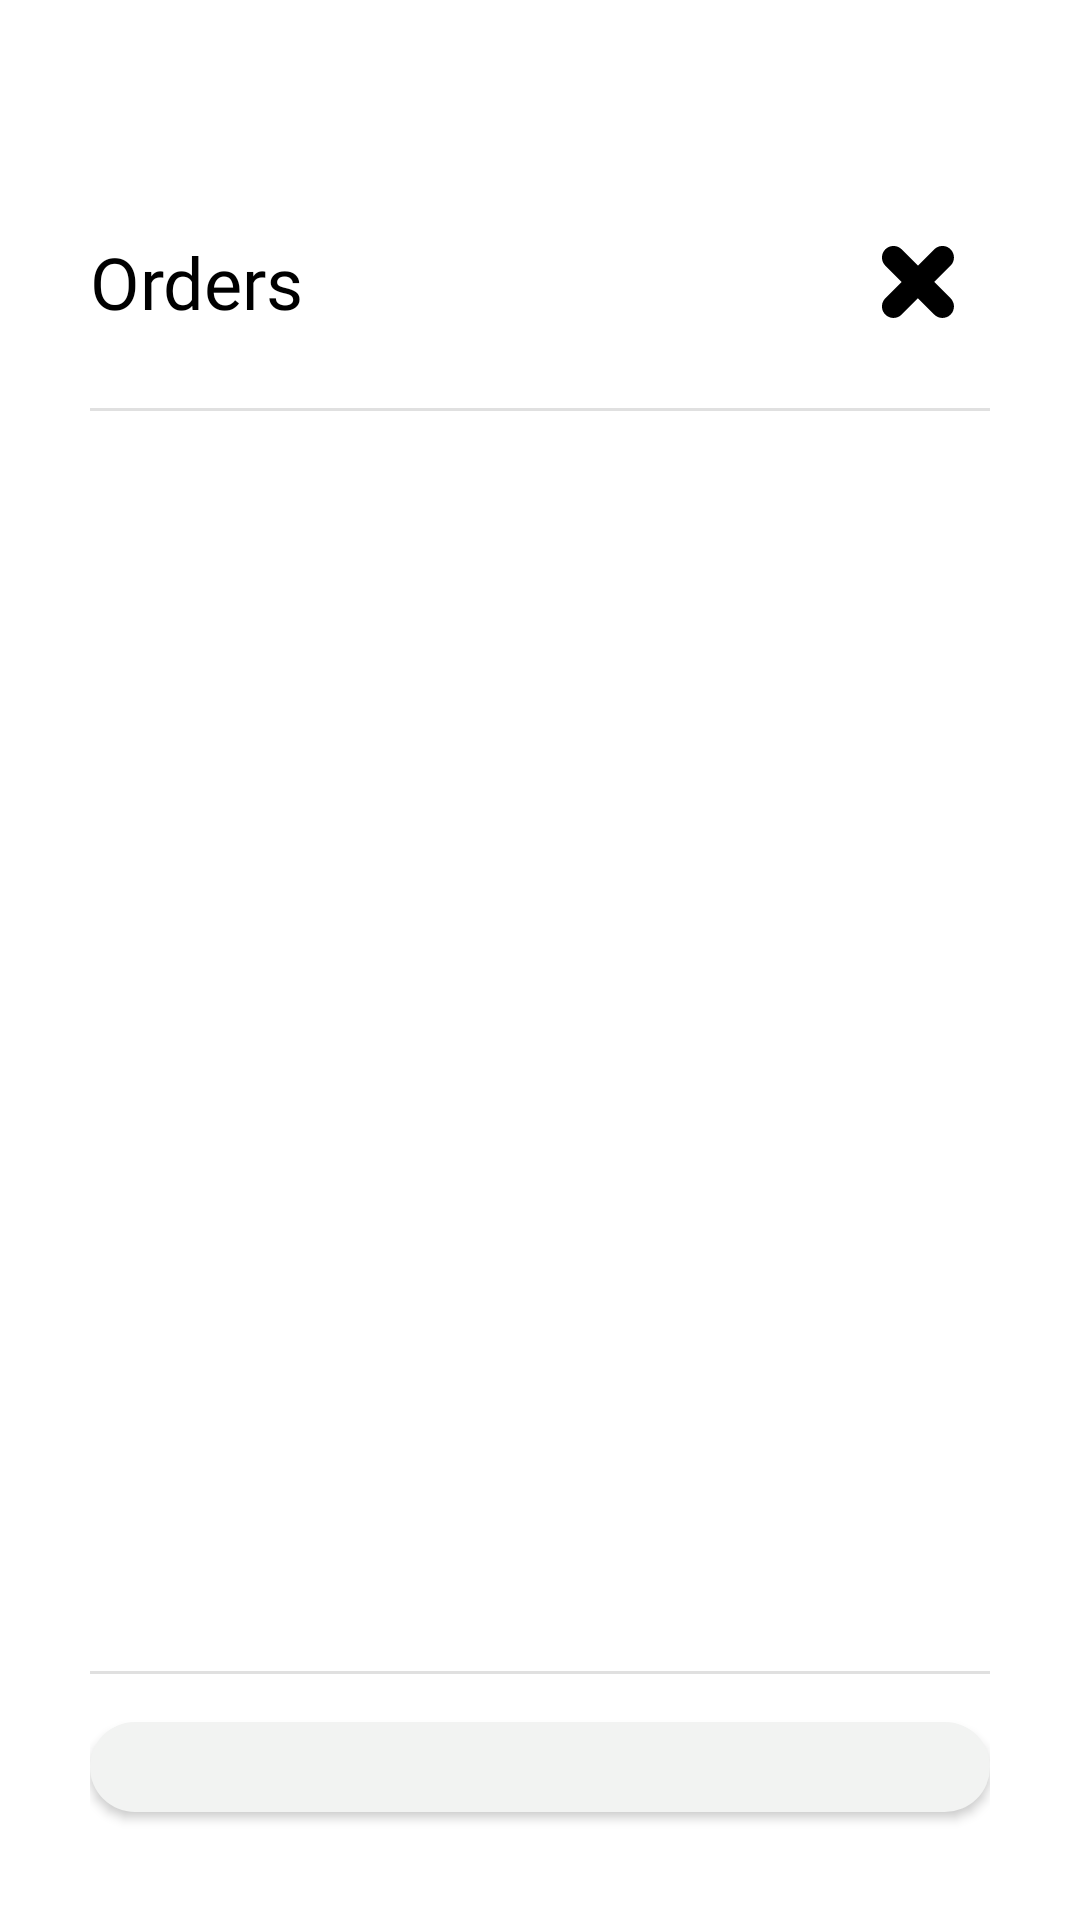

Icon click points for this 1080*1920 phone screenshot, format [x,y]:
cancel: [918,282]
